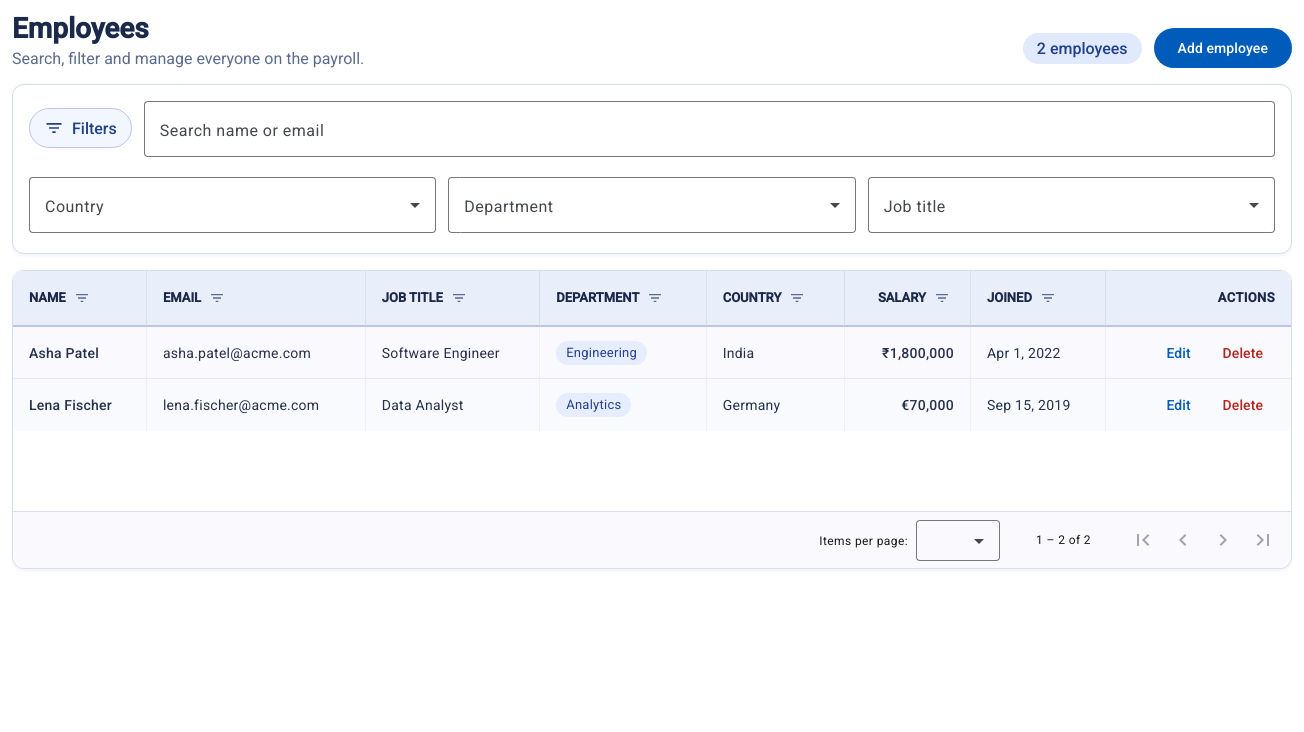
it: EmployeeListComponent › adding, editing and deleting › shows an error when the deletion fails
Click the button with aria-label "Delete Asha Patel": point(1243, 352) [1210,332,1275,372]
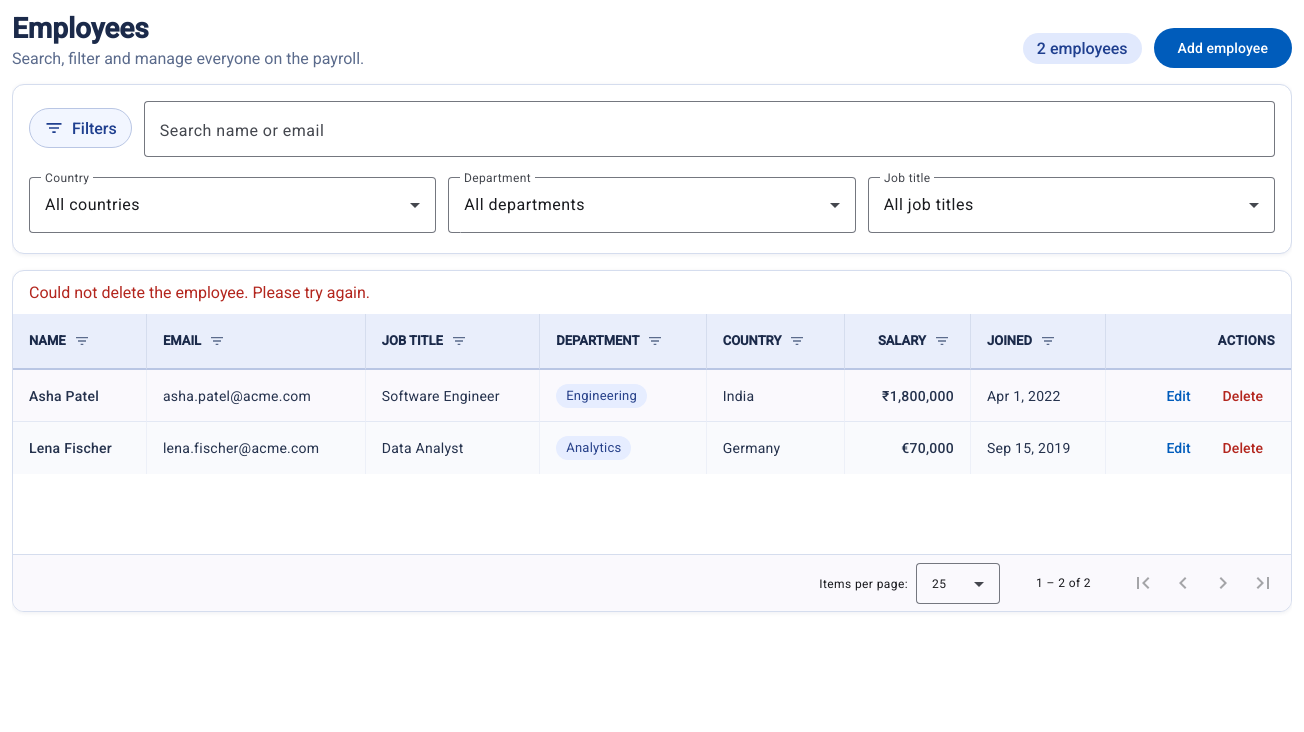
Expected: the message "Could not delete the employee. Please try again." is shown, [29,283,370,302]
